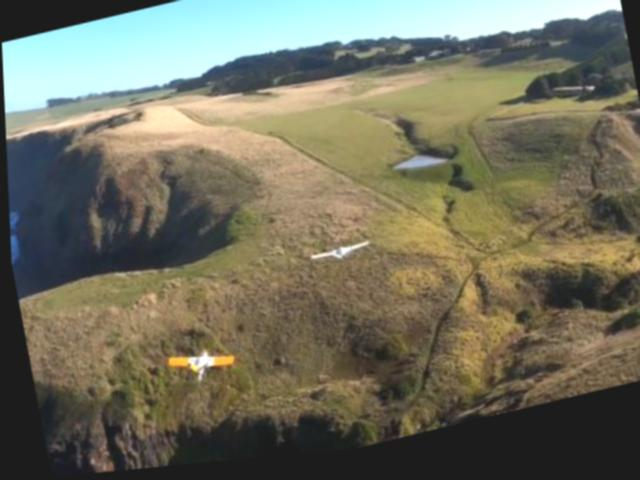uav: (156, 341, 237, 392), (303, 239, 371, 273)
